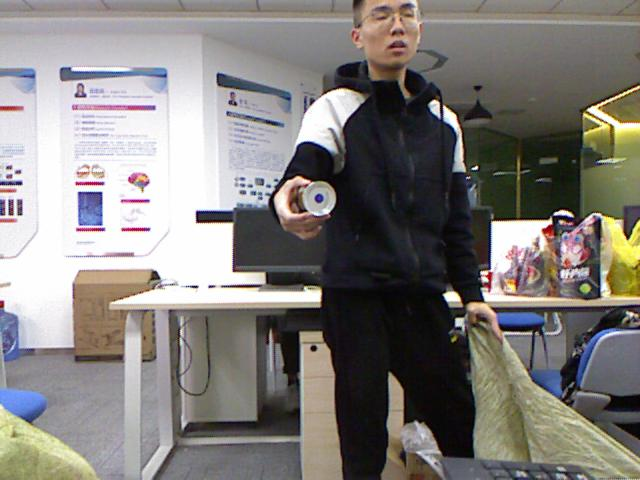metal: (301, 182, 335, 216)
